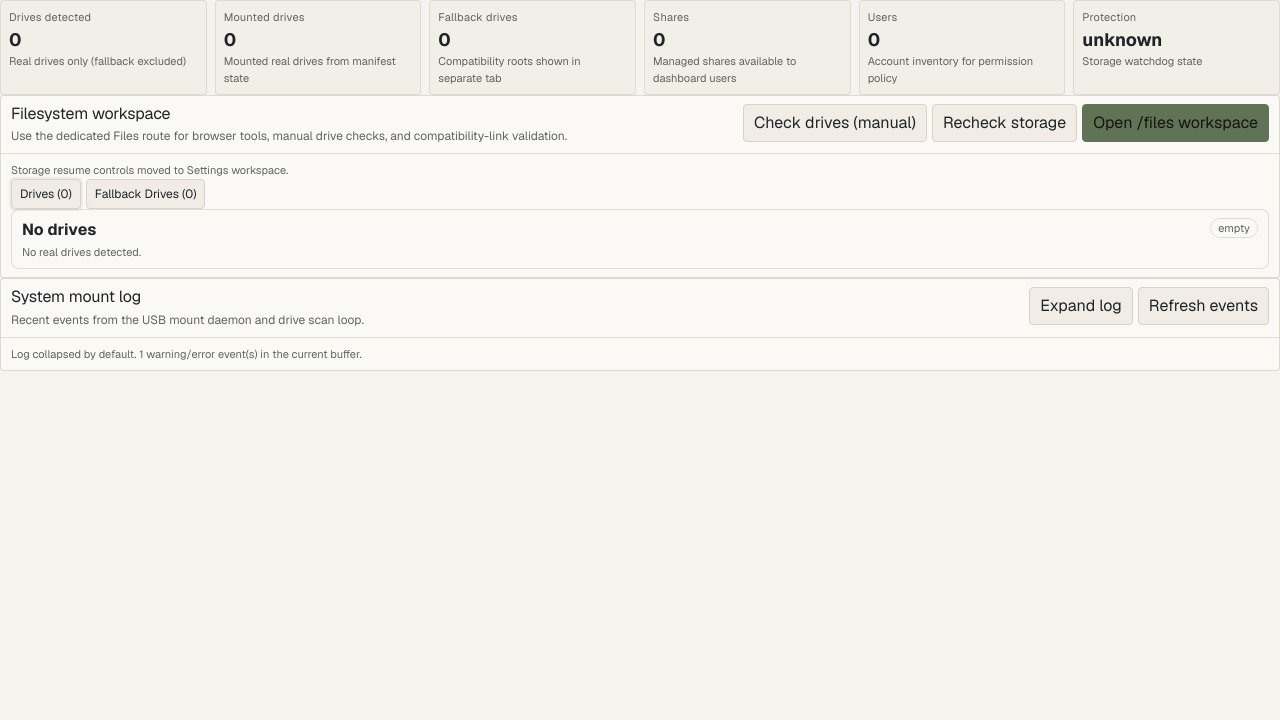
Scenario: WorkspaceViewport › renders mount events and warning filtering in files workspace
Expected: the heading "System mount log" is shown, [11,286,141,308]
Expected: the text "Log collapsed by default" is shown, [11,347,139,361]
Click the button "Expand log": (1081, 306) [1029,288,1133,326]
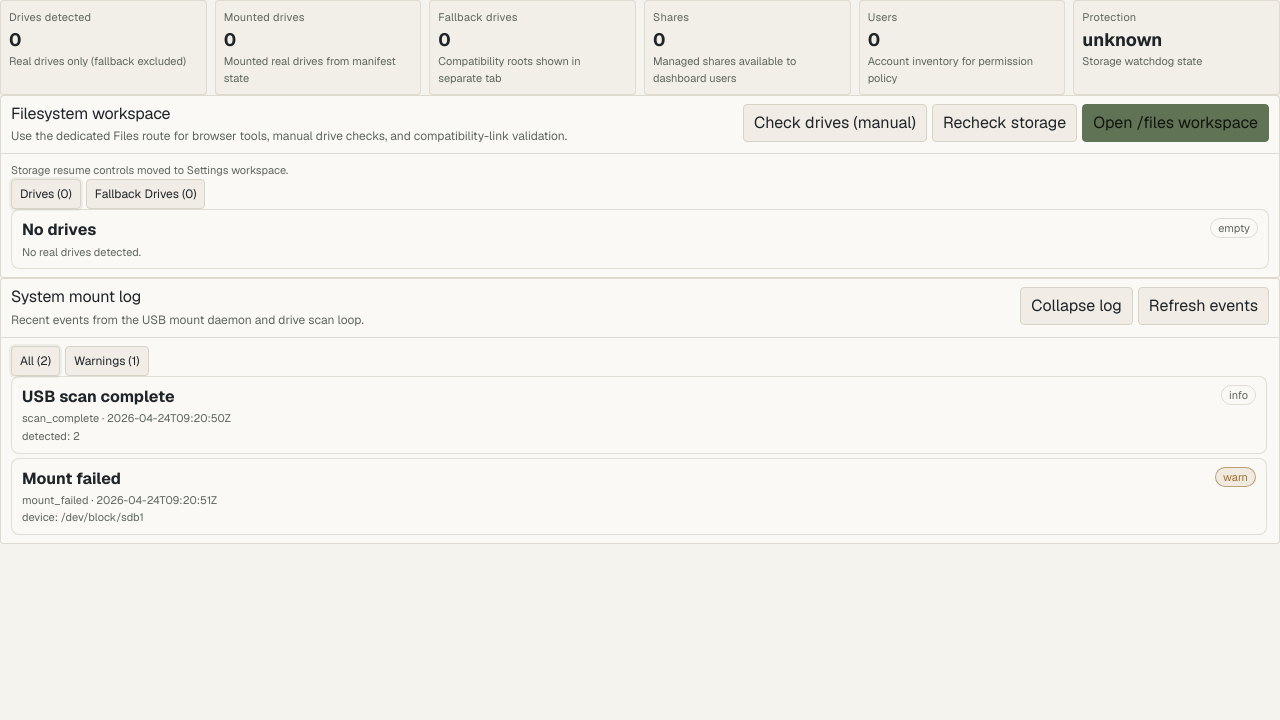
Now the text "USB scan complete" is shown, box [22,386,175,407]
Now the text "Mount failed" is shown, box [22,468,121,488]
Click the tab "Warnings (1)": (107, 361) [65,346,149,376]
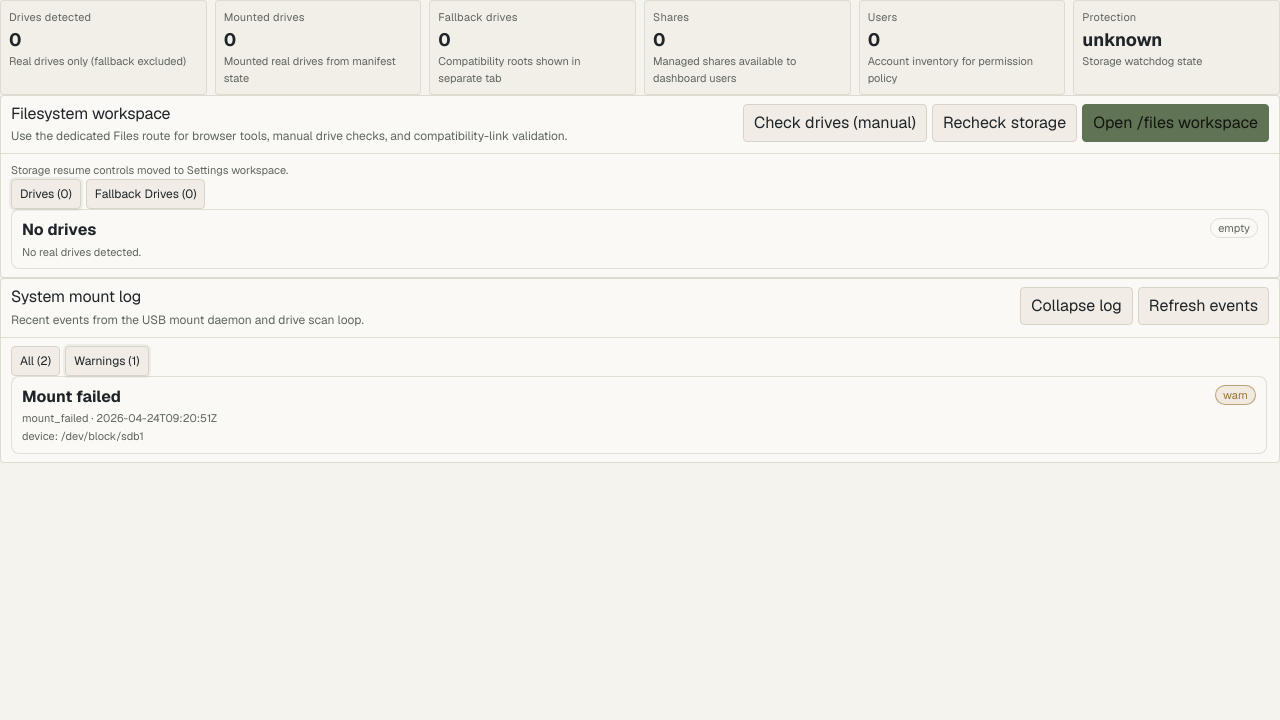
Now the text "Mount failed" is shown, box [22,386,121,407]
Now the text "USB scan complete" is gone
